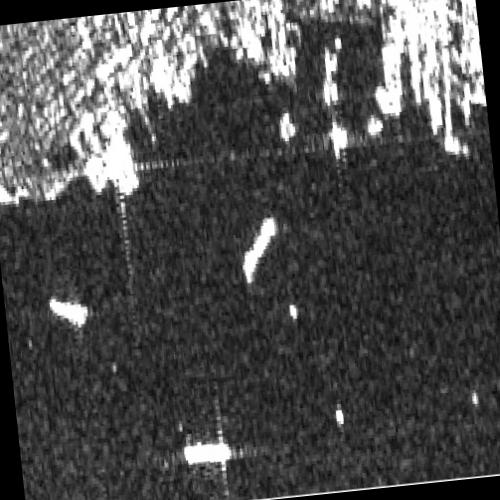ship: (241, 213, 277, 284), (46, 295, 89, 327), (181, 441, 233, 466)
